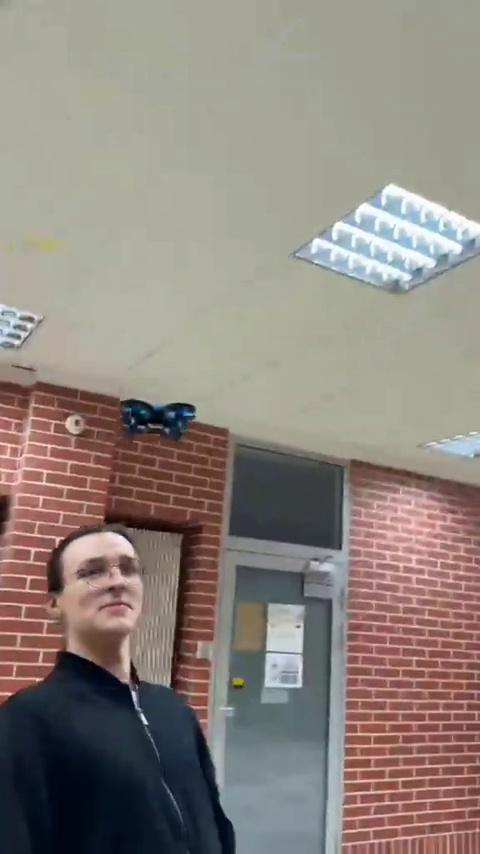drone: (111, 396, 198, 443)
no vest: (0, 523, 242, 854)
